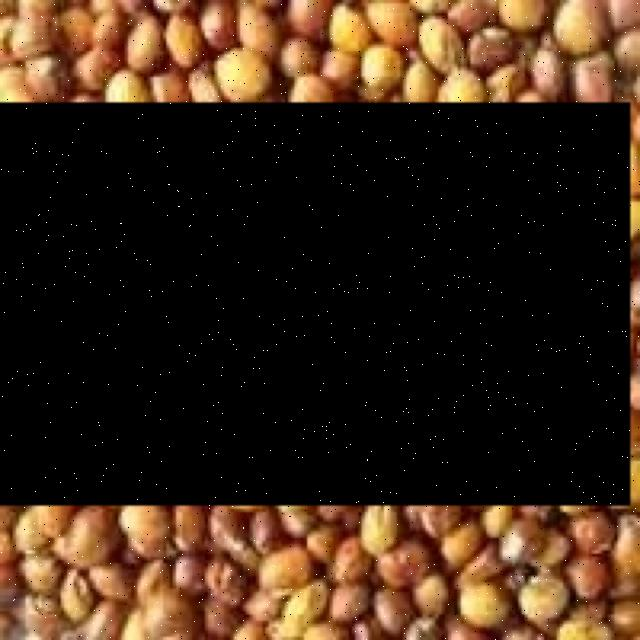Rahar_ko_Daal: (1, 103, 632, 505)
